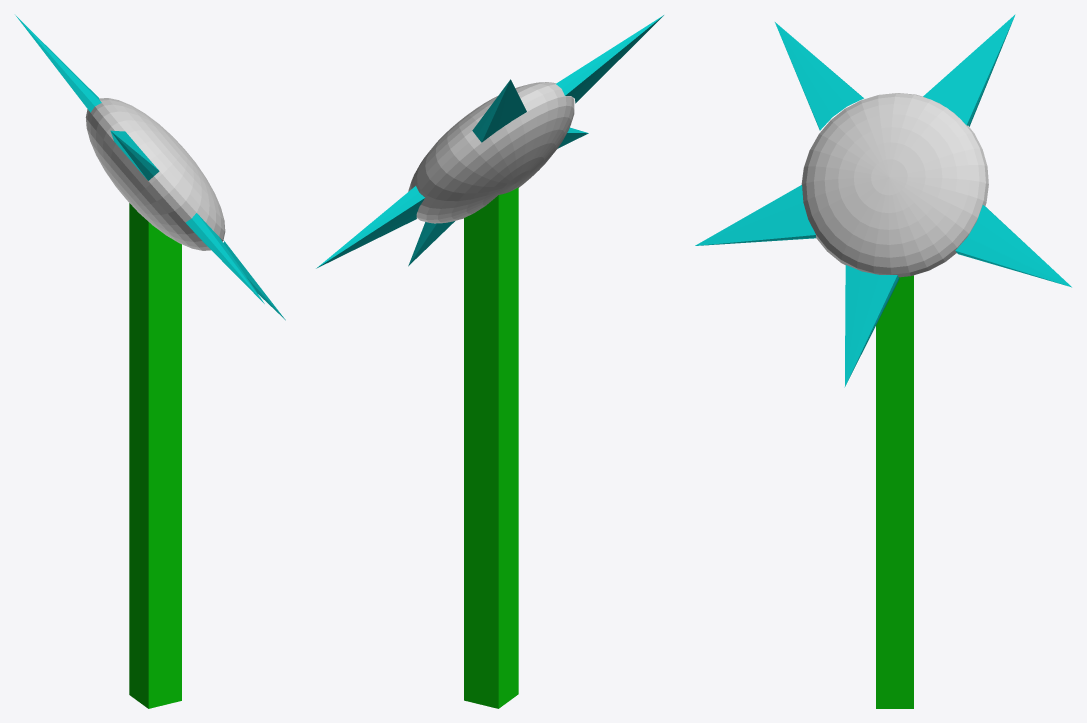
The model's file is iceflower.glb.
3 renders of one model, left to right at view 1: azimuth 30°, elevation 25°; view 2: azimuth 150°, elevation 25°; view 3: azimuth 270°, elevation 25°, orthographic. The views are drawn at different scales.
Visible parts, largest first — view 1: Stem, Flower, Petal, Petal.003, Petal.002; view 2: Stem, Flower, Petal.004, Petal.002, Petal.003, Petal.001; view 3: Flower, Stem, Petal.001, Petal.004, Petal, Petal.003, Petal.002.
Boxes of the visible parts, x1,y1,x2,y2 form: Stem: [129, 203, 181, 708]; Flower: [85, 98, 225, 250]; Petal: [185, 213, 264, 303]; Petal.003: [15, 15, 101, 112]; Petal.002: [110, 130, 159, 180]; Stem: [464, 187, 518, 708]; Flower: [408, 82, 574, 223]; Petal.004: [316, 186, 424, 268]; Petal.002: [556, 15, 663, 103]; Petal.003: [472, 79, 526, 142]; Petal.001: [408, 221, 454, 266]; Flower: [801, 93, 988, 277]; Stem: [876, 275, 913, 708]; Petal.001: [844, 265, 899, 387]; Petal.004: [955, 205, 1071, 287]; Petal: [695, 185, 815, 245]; Petal.003: [923, 14, 1015, 126]; Petal.002: [775, 22, 863, 130].
Bounding box in the file's own units: 1.27 × 3.77 × 1.99.
